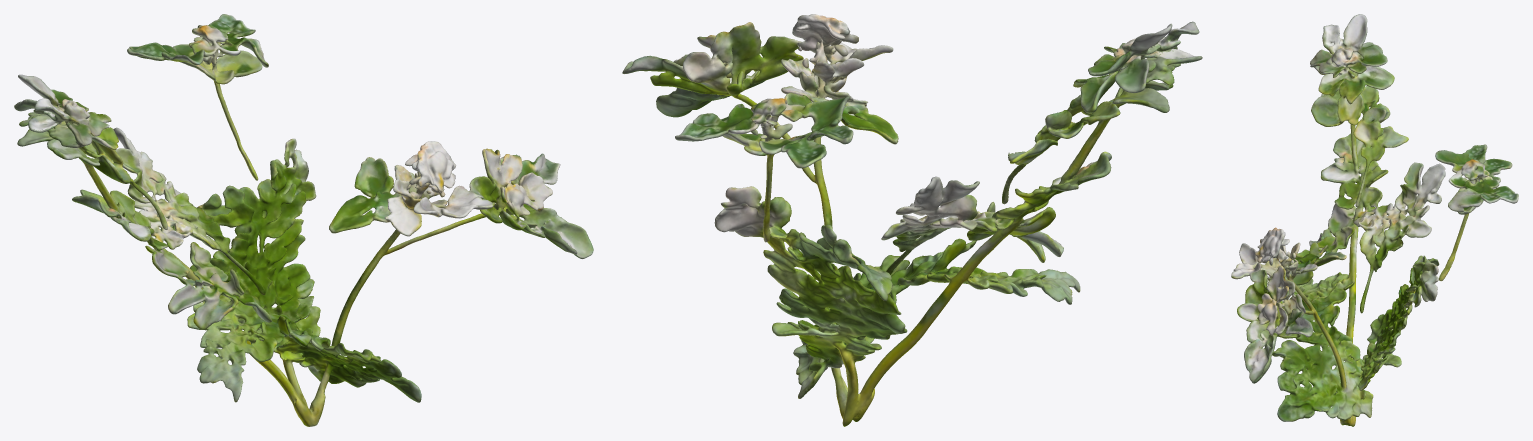
File: bacopa_monnieri_plant.glb
The picture shows the model from 3 angles, left to right: view 1: azimuth 30°, elevation 25°; view 2: azimuth 150°, elevation 25°; view 3: azimuth 270°, elevation 25°; orthographic projection. The views are drawn at different scales.
Visible parts, largest first — view 1: Object_7, Object_6, Object_5, Object_4, Object_8; view 2: Object_6, Object_5, Object_4, Object_7, Object_8; view 3: Object_5, Object_4, Object_6, Object_7, Object_8.
Boxes of the visible parts, x1=… form: Object_7: x1=79, y1=141, x2=421, y2=426; Object_6: x1=110, y1=14, x2=304, y2=343; Object_5: x1=14, y1=89, x2=493, y2=426; Object_4: x1=14, y1=74, x2=593, y2=402; Object_8: x1=18, y1=133, x2=590, y2=378; Object_6: x1=675, y1=95, x2=1043, y2=352; Object_5: x1=714, y1=14, x2=1146, y2=426; Object_4: x1=622, y1=21, x2=1202, y2=292; Object_7: x1=715, y1=103, x2=1120, y2=420; Object_8: x1=656, y1=86, x2=1172, y2=358; Object_5: x1=1258, y1=45, x2=1438, y2=426; Object_4: x1=1231, y1=14, x2=1393, y2=383; Object_6: x1=1360, y1=128, x2=1518, y2=364; Object_7: x1=1277, y1=86, x2=1435, y2=426; Object_8: x1=1258, y1=74, x2=1374, y2=393.
Bounding box in the file's own units: 2 × 1.54 × 1.3.
1 material, 1 textured.
